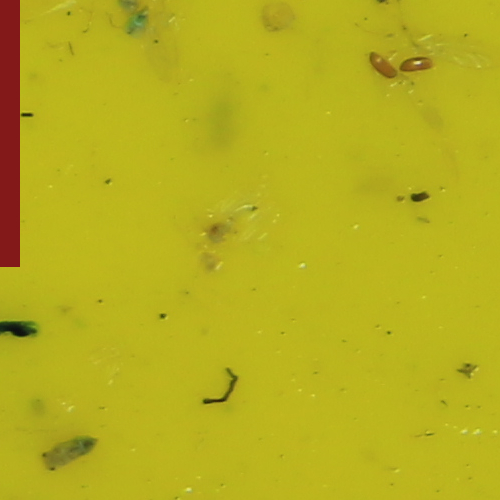psylla: (40, 433, 100, 473)
